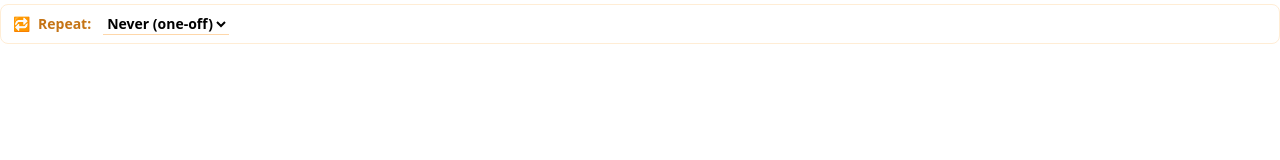
Test case: RecurrenceEditor › builds "every 2 weeks on Mon, Wed"
Select "Weekly" in the dropdown at (166, 24), box [103,13,229,35]
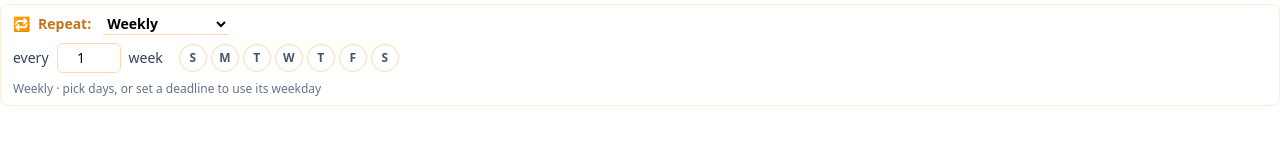
Replace the text in the number field named "Repeat every" with "2" at (88, 58), box [56,43,120,73]
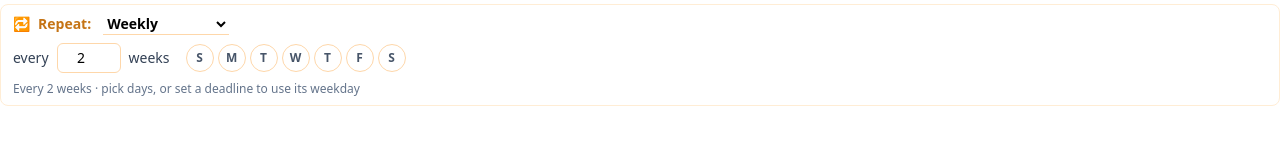
Click the button named "Monday" at (232, 58), box [218,44,246,72]
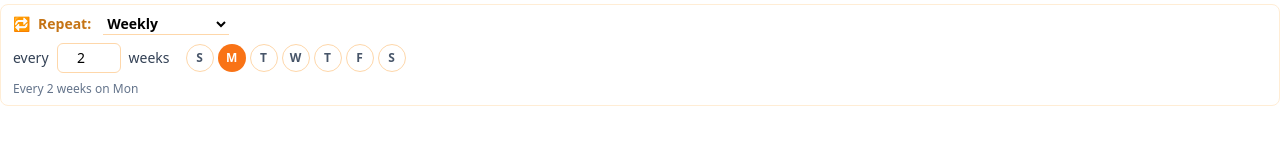
Click the button named "Wednesday" at (296, 58), box [282,44,310,72]
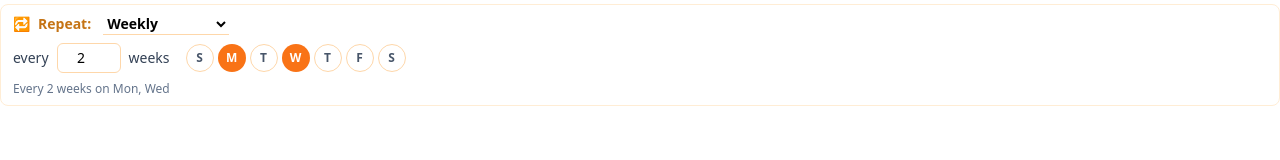
Expected: the text "Every 2 weeks on Mon, Wed" is shown, [13,80,170,97]
